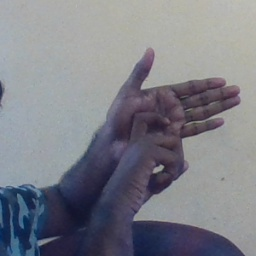R: (99, 46, 245, 198)
